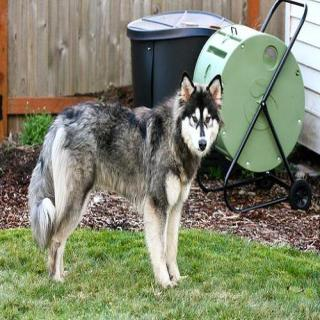dog: (175, 70, 227, 162)
nose: (196, 140, 208, 151)
